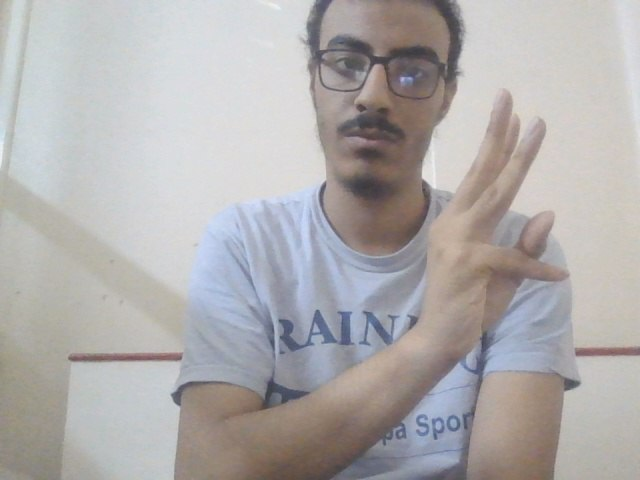Water: (416, 83, 581, 355)
